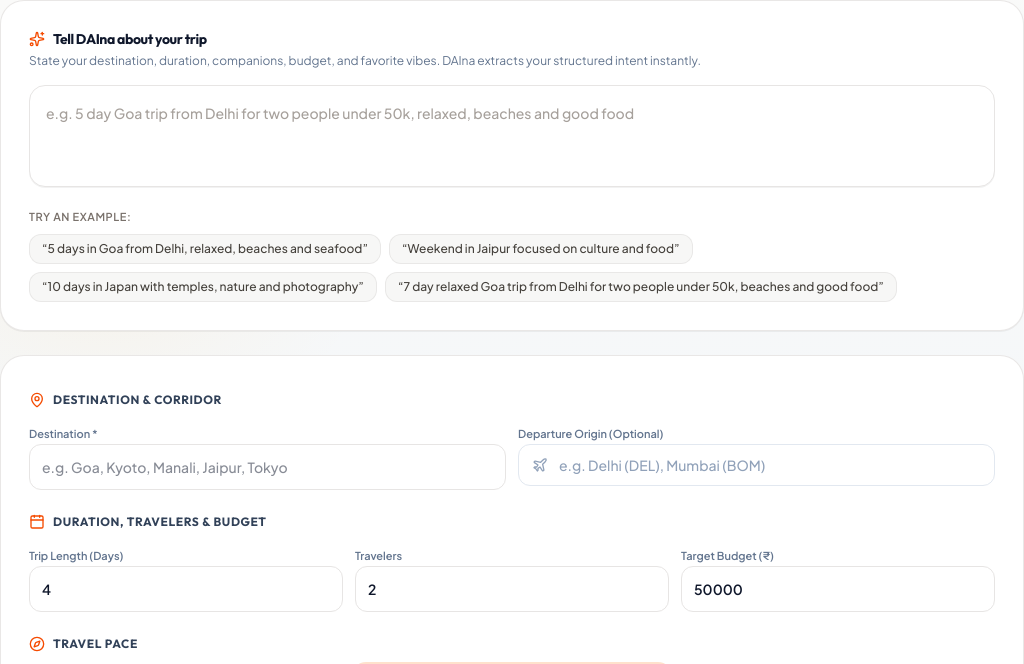
DashTiny Itinerary Intelligence — Planner UI & Proposal Lifecycle › 1. StructuredPlannerForm Component › extracts intent from natural language input and updates summary card
This screenshot has width=1024, height=664.
Replace the text in the text box with placeholder "e.g. 5 day Goa trip from Delhi" with "5 day Goa trip from Delhi for two people under 50k, relaxed, beaches and good food" at (512, 136), box [29,85,995,187]
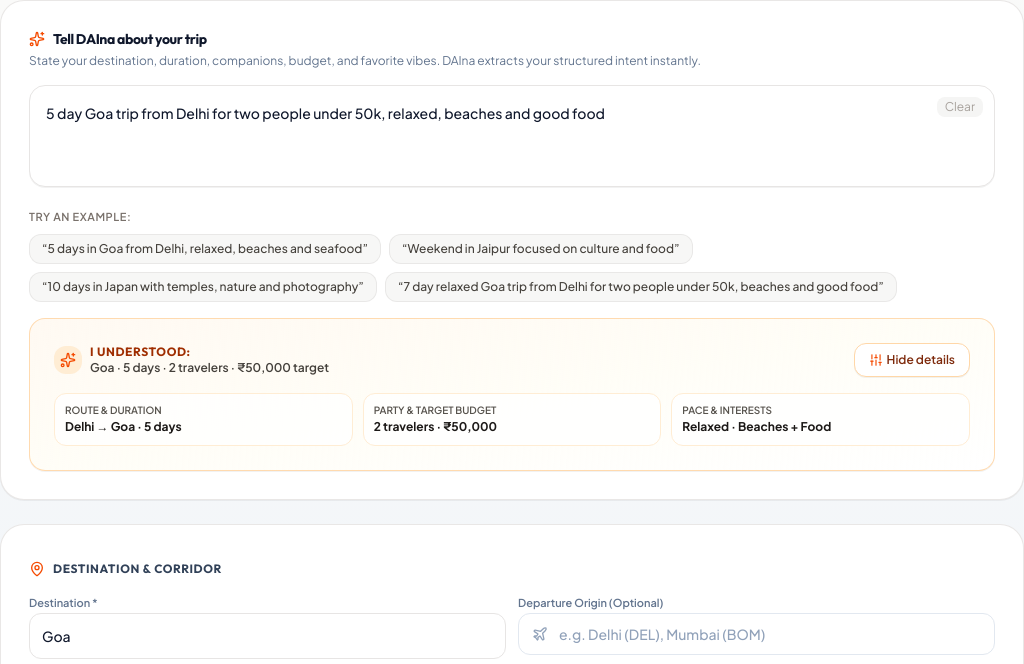
Now the element with test id "understood-intent-card" is shown, box [29,318,995,471]
Now the heading "I understood:" is shown, box [90,344,191,359]
Now the text "Goa · 5 days · 2 travelers · ₹50,000 target" is shown, box [90,360,329,376]
